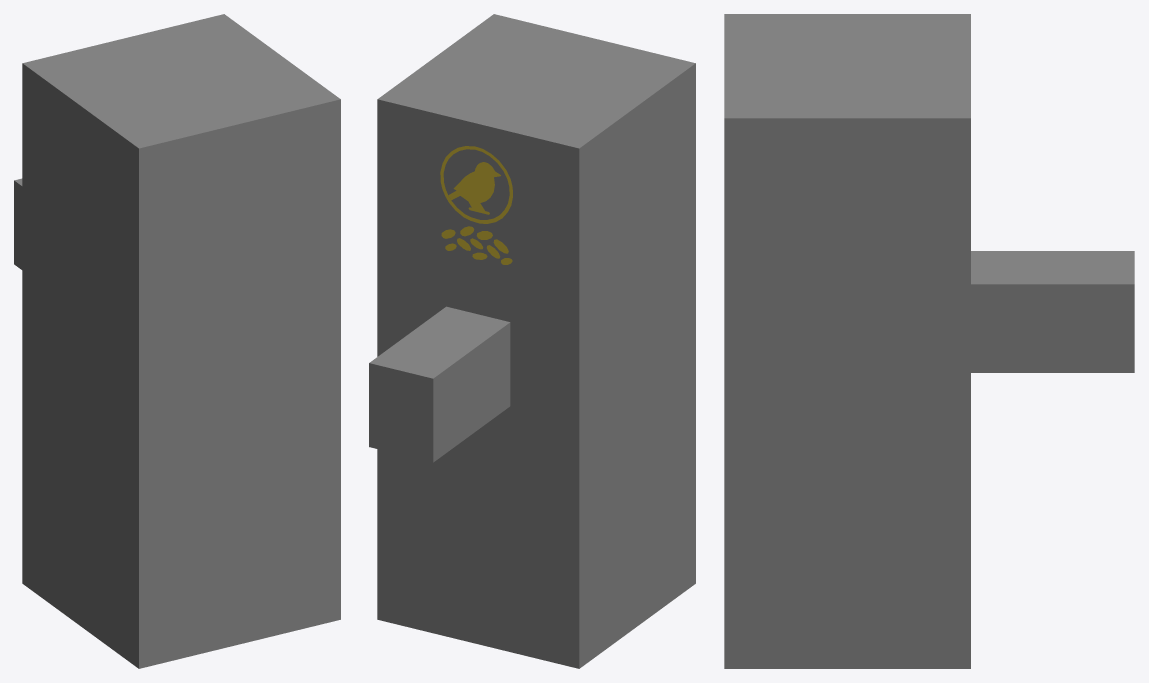
Rendered from BirdSeedsBoxForLever.fbx.
3 views of the same model, side by side, from view 1: azimuth 30°, elevation 25°; view 2: azimuth 150°, elevation 25°; view 3: azimuth 270°, elevation 25° (orthographic). The views are drawn at different scales.
Visible parts, largest first — view 1: Cube.225; view 2: Cube.225; view 3: Cube.225.
Boxes of the visible parts, left/top/right/bottom form: Cube.225: left=14, top=14, right=340, bottom=668; Cube.225: left=369, top=14, right=695, bottom=668; Cube.225: left=724, top=14, right=1134, bottom=668.
Bounding box in the file's own units: 102 × 252 × 170.
